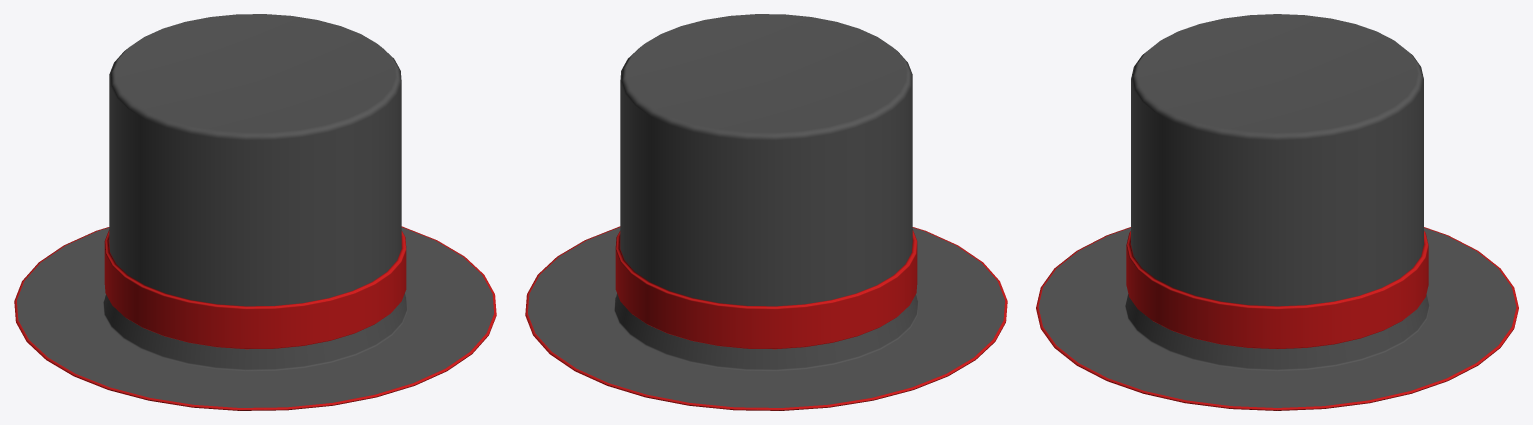
Rendered from TopHat.fbx.
The picture shows the model from 3 angles, left to right: view 1: azimuth 30°, elevation 25°; view 2: azimuth 150°, elevation 25°; view 3: azimuth 270°, elevation 25°; orthographic projection.
Parts seen in each view (by area): view 1: TophatMesh; view 2: TophatMesh; view 3: TophatMesh.
Boxes of the visible parts, x1=… form: TophatMesh: x1=14, y1=14, x2=496, y2=410; TophatMesh: x1=525, y1=14, x2=1007, y2=410; TophatMesh: x1=1036, y1=14, x2=1518, y2=410.
Bounding box in the file's own units: 394 × 213 × 394.
Materials: 1 (1 with a texture image).
